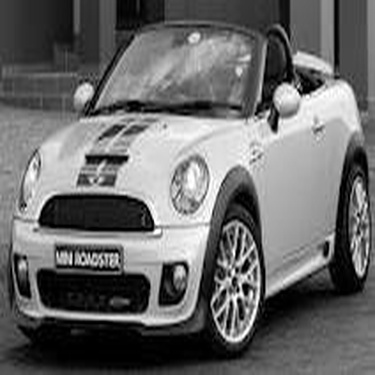car: (10, 15, 372, 364)
